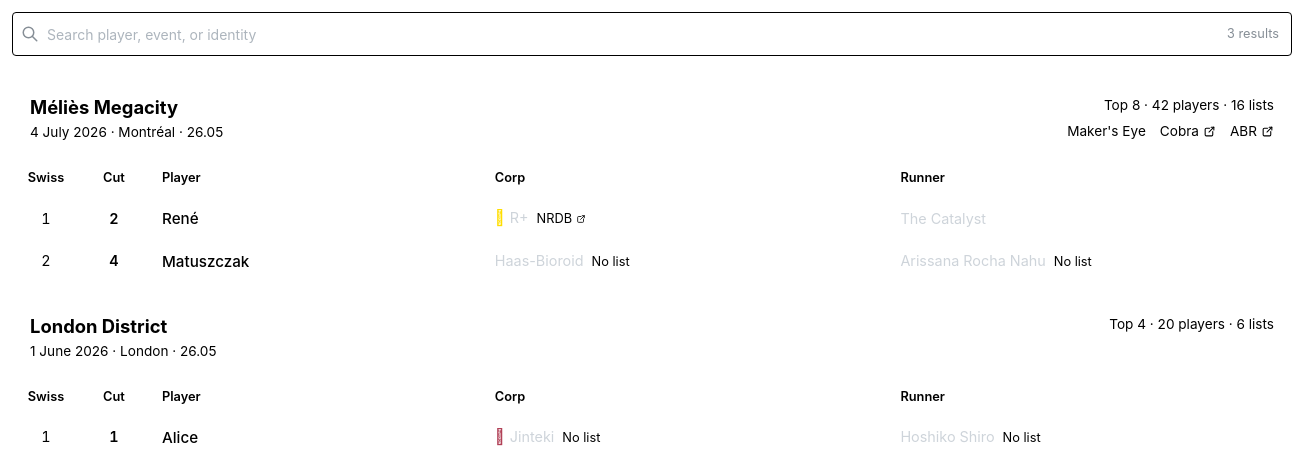
it: CatalogClient › renders every top-cut entrant, hides Cobra IDs, and filters by player
Expected: the text "Matuszczak" is shown, [162,252,249,270]
Expected: the text "3 results" is shown, [1227,26,1279,41]
Step 1. Type "rene" into the field named "Search tournament entrants" → (652, 34), box [12,12,1292,56]
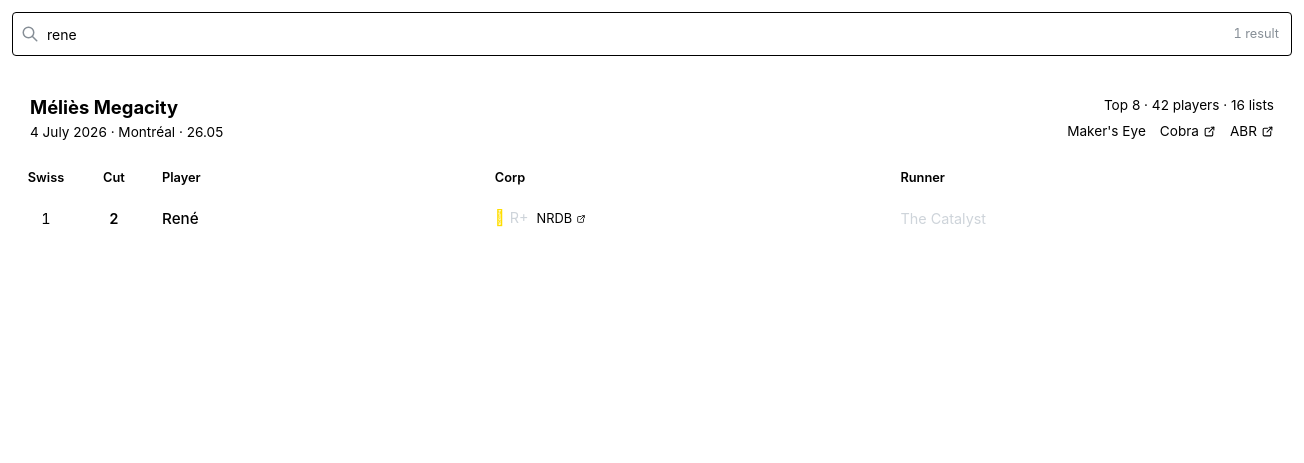
Result: the heading "London District" is gone
Result: the button "Matuszczak" is gone
Result: the text "1 result" is shown at [1233,26,1279,41]
